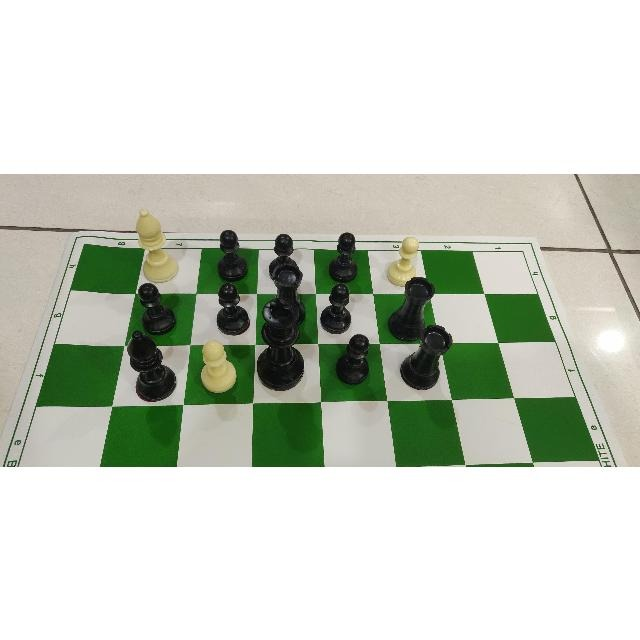black-bishop: (125, 329, 177, 403), (128, 329, 176, 400)
black-king: (256, 295, 306, 392), (256, 295, 304, 390)
black-pawn: (134, 281, 177, 334), (334, 331, 372, 386), (334, 330, 370, 385), (213, 283, 250, 335), (215, 282, 251, 335), (215, 227, 249, 282), (215, 228, 248, 282), (319, 281, 351, 334), (320, 281, 352, 334), (267, 232, 300, 282), (267, 233, 301, 281), (327, 229, 358, 281), (328, 230, 358, 281)
black-rook: (398, 321, 453, 391), (399, 324, 453, 390), (387, 275, 437, 343), (386, 275, 435, 341), (270, 261, 306, 325), (271, 262, 307, 325)
white-bishop: (129, 207, 180, 282), (132, 206, 181, 283)
white-pawn: (199, 338, 238, 393), (200, 340, 236, 392), (385, 235, 421, 287), (385, 235, 420, 287)
